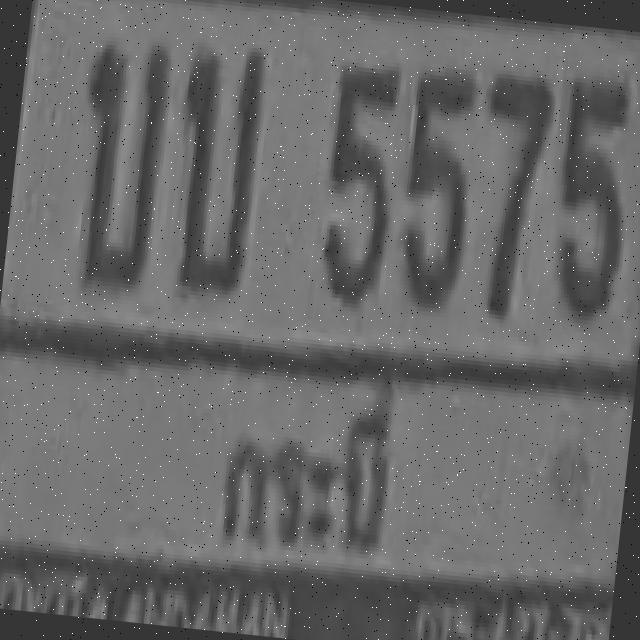35BorBaiMai: (44, 0, 196, 318), (156, 18, 294, 332)
Krabi: (178, 362, 440, 569)
